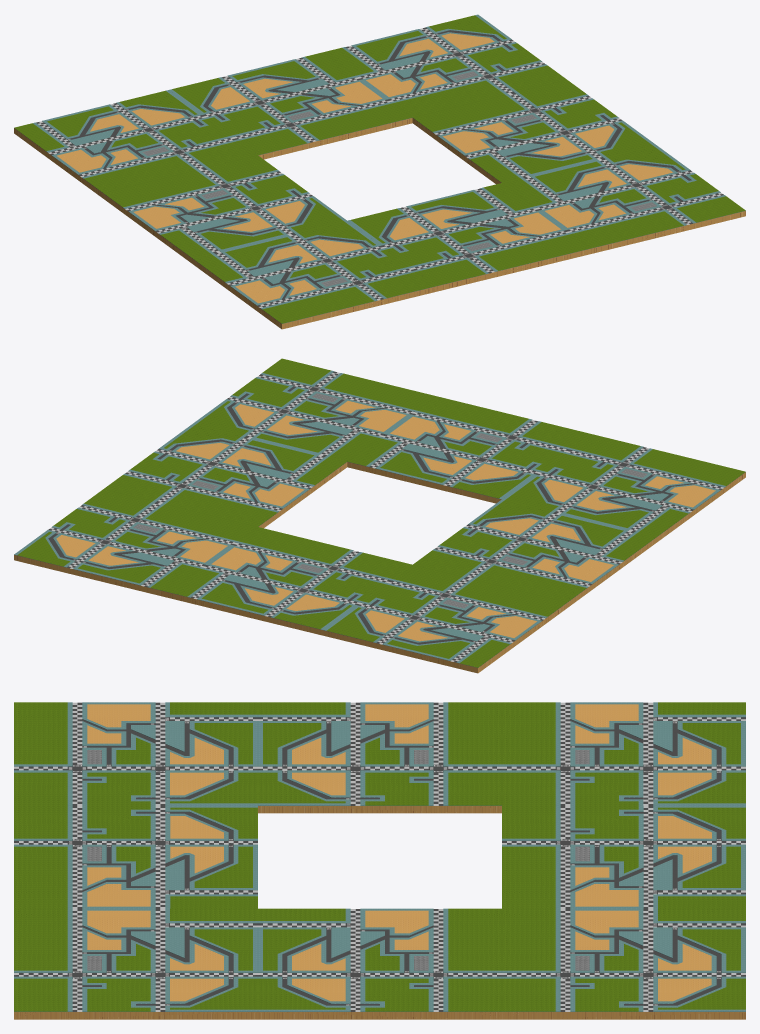
Rendered from map_filler.fbx.
3 views of the same model, one above another, from view 1: azimuth 30°, elevation 25°; view 2: azimuth 150°, elevation 25°; view 3: azimuth 270°, elevation 25° (orthographic). The views are drawn at different scales.
Parts seen in each view (by area): view 1: pCube25.029; view 2: pCube25.029; view 3: pCube25.029.
Boxes of the visible parts, x1=… form: pCube25.029: x1=14, y1=14, x2=745, y2=329; pCube25.029: x1=14, y1=358, x2=745, y2=673; pCube25.029: x1=14, y1=702, x2=745, y2=1019.
Size of the model in its own units: 58750 by 691 by 58749.
